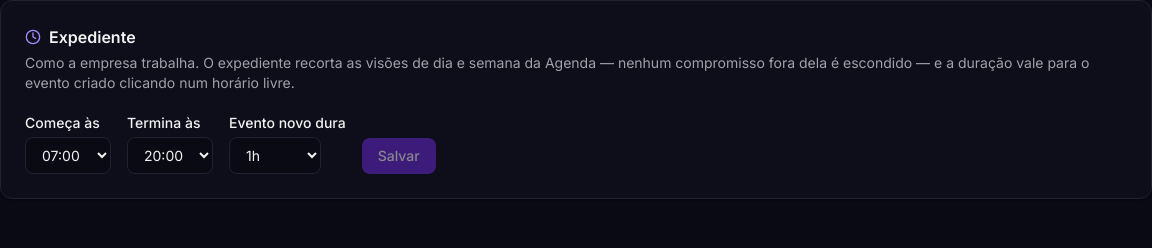
it: Expediente invertido › corrigir a inversão libera o salvar de novo
The width and height of the screenshot is (1152, 248).
Select "20:00" in the dropdown labelled "Começa às": [68, 156] box [25, 137, 111, 174]
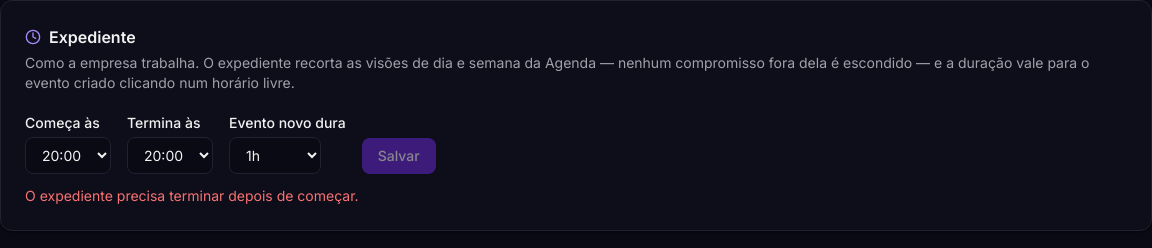
Select "09:00" in the dropdown labelled "Termina às": [170, 156] box [127, 137, 213, 174]
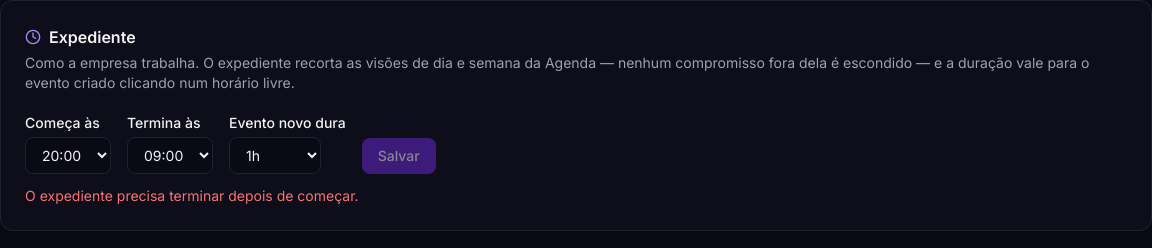
Select "22:00" in the dropdown labelled "Termina às": [170, 156] box [127, 137, 213, 174]
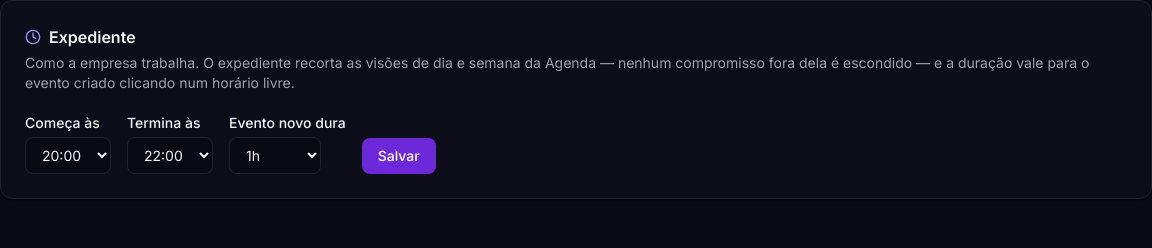
Now the button "Salvar" is enabled, box [362, 138, 436, 174]
Now the text "precisa terminar depois de começar" is gone
